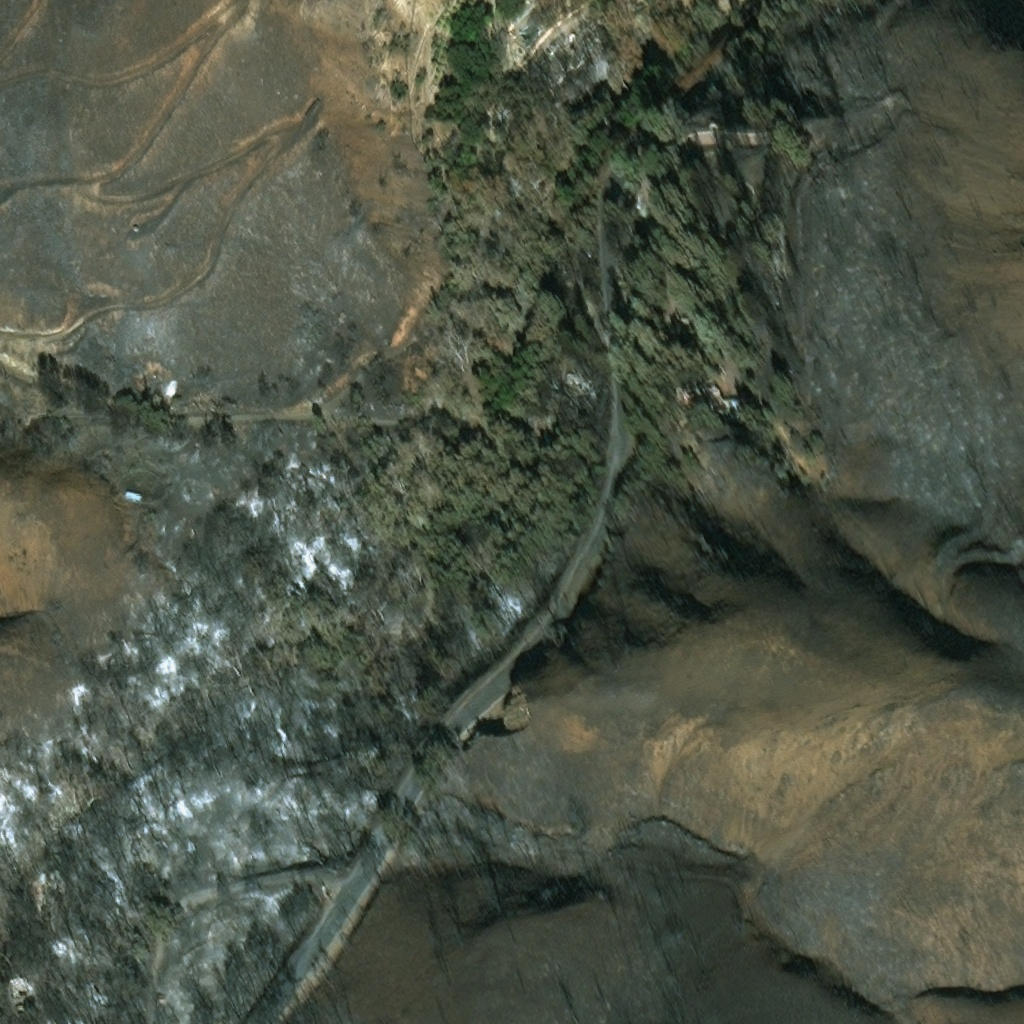3 destroyed: (535, 32, 576, 70), (568, 15, 606, 44), (514, 18, 534, 38), (154, 378, 173, 398), (121, 492, 139, 502)
4 un-classified: (671, 382, 730, 415), (671, 314, 685, 322)
